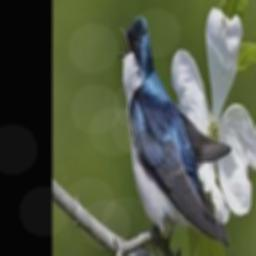Swallow: (117, 15, 231, 252)
